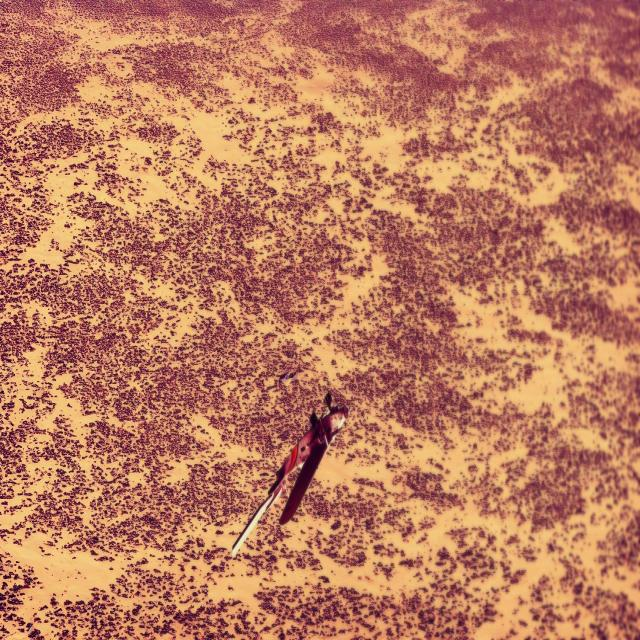airplane: (231, 390, 348, 560)
